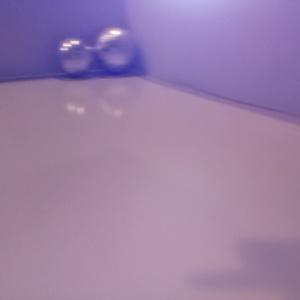alive_ball: (93, 26, 137, 73), (56, 36, 93, 75)
